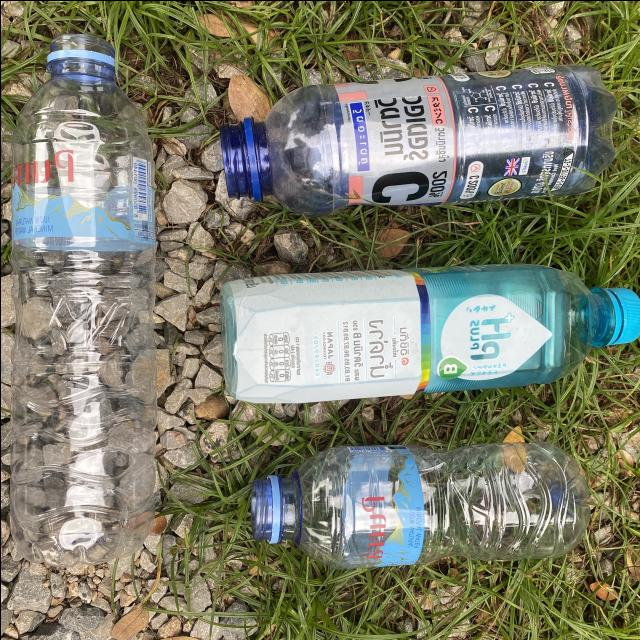plastik: (10, 33, 155, 564), (219, 64, 615, 215), (220, 264, 640, 401), (251, 441, 588, 567)
